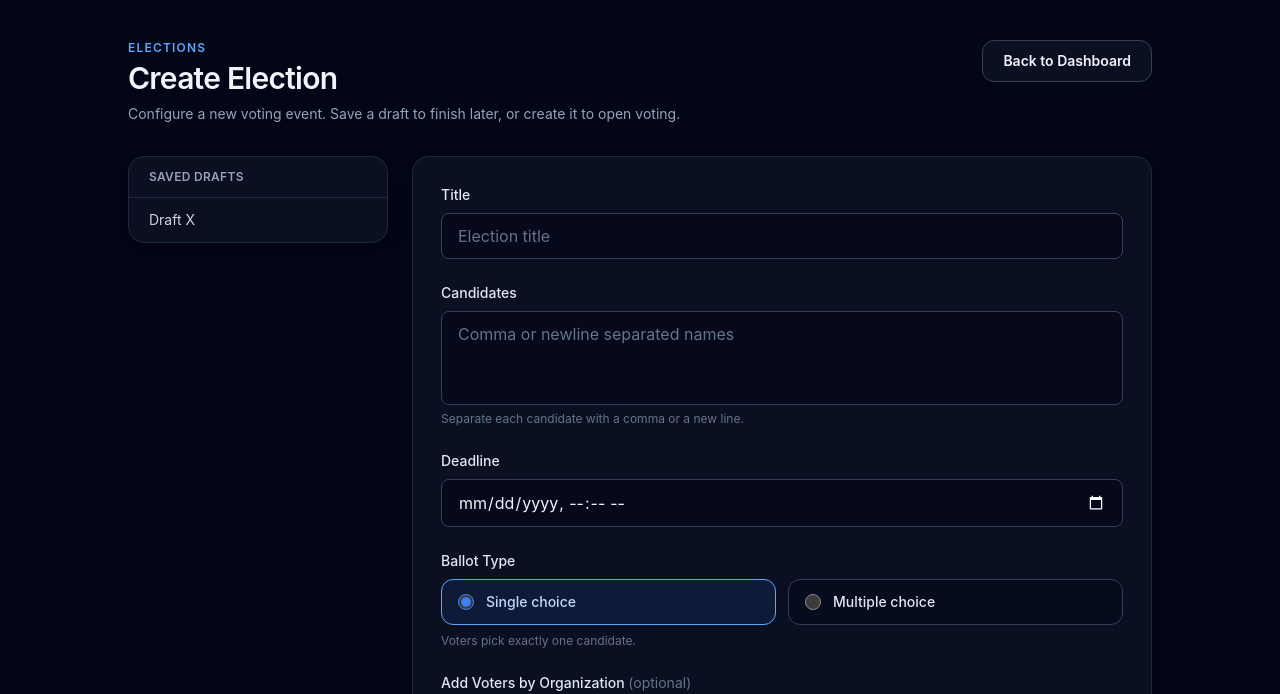
it: CreateElection ballot configuration › loading a draft restores its ballot configuration and + New resets it
This screenshot has width=1280, height=694.
Click the button "Draft X".
click(258, 220)  # box [129,198,387,242]
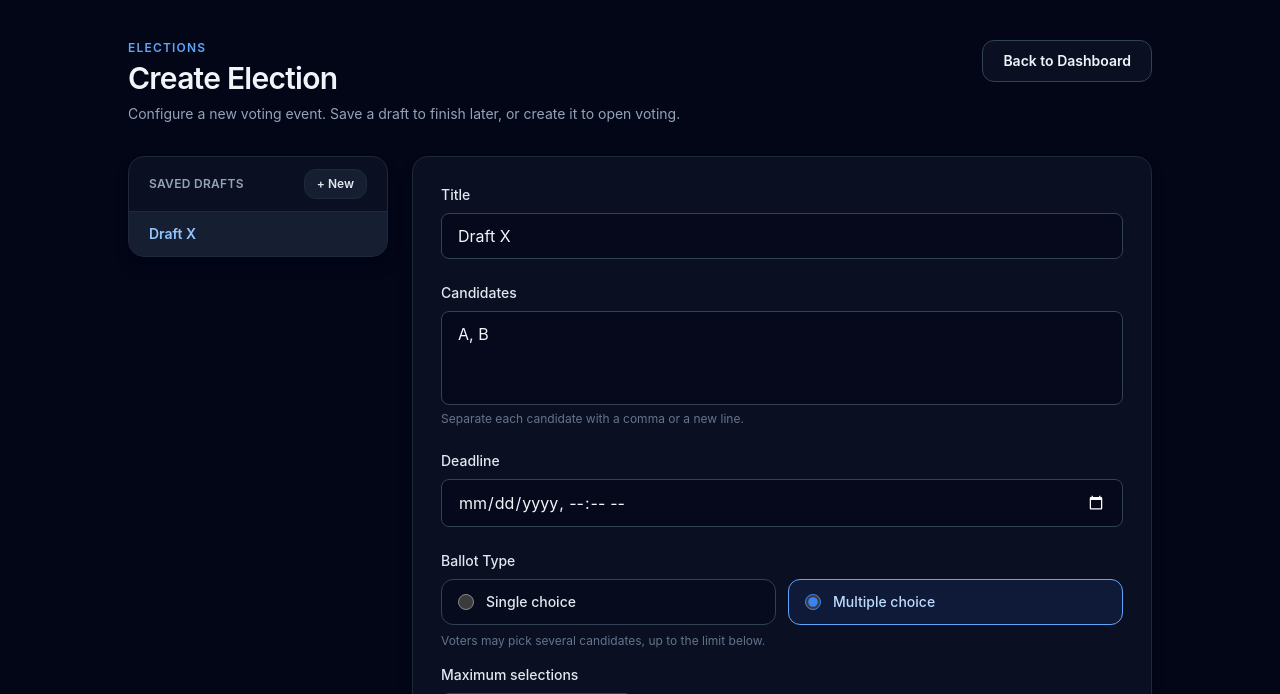
Result: the radio button labelled "Multiple choice" is checked at [805,594,821,610]
Click the button "+ New".
click(335, 184)  # box [304,169,367,199]
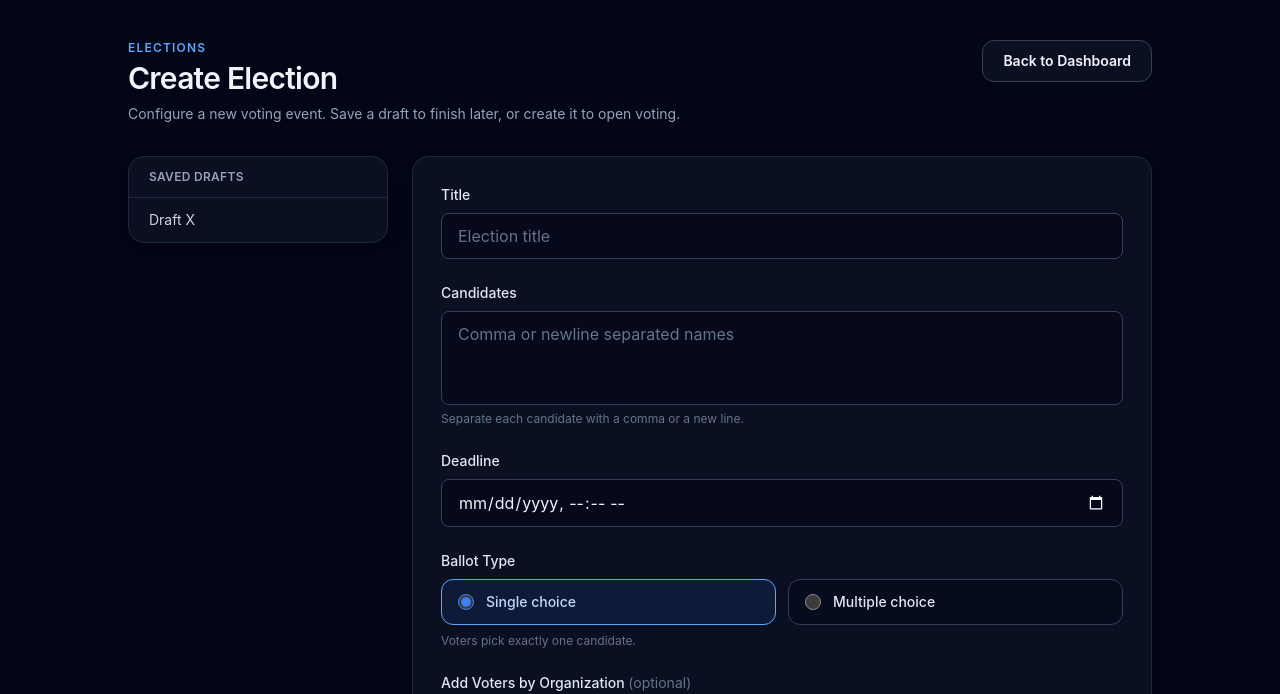
Result: the radio button labelled "Single choice" is checked at [458,594,474,610]
Result: the label labelled "Maximum selections" is gone
